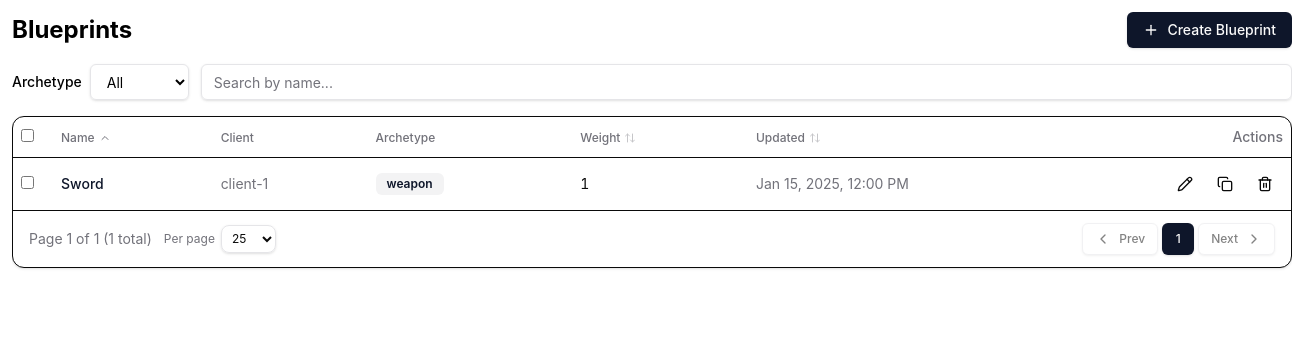
Test: Blueprints list page › clear button deselects all rows
This screenshot has width=1304, height=360.
Click the checkbox named "Select Sword" at (28, 182), box [21,176,34,188]
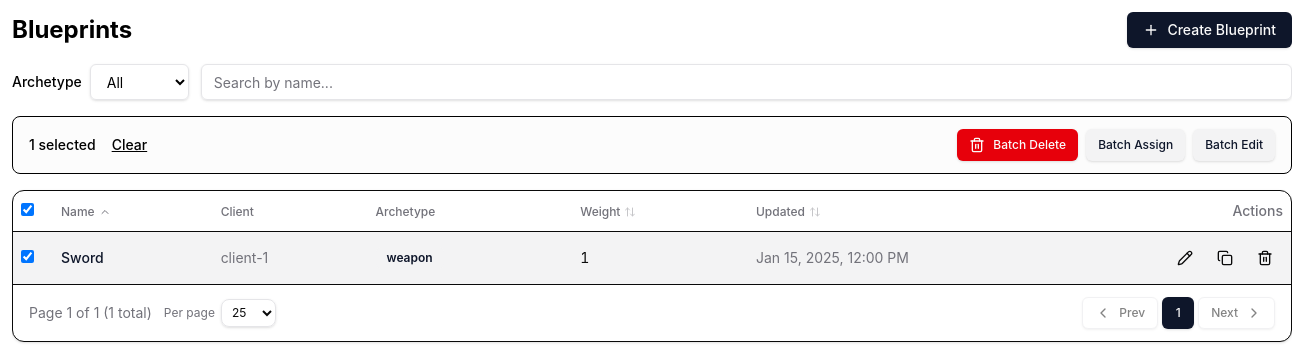
Result: the text "1 selected" is shown at [29,135,96,155]
Click the button "Clear" at (129, 145), box [112,135,147,155]
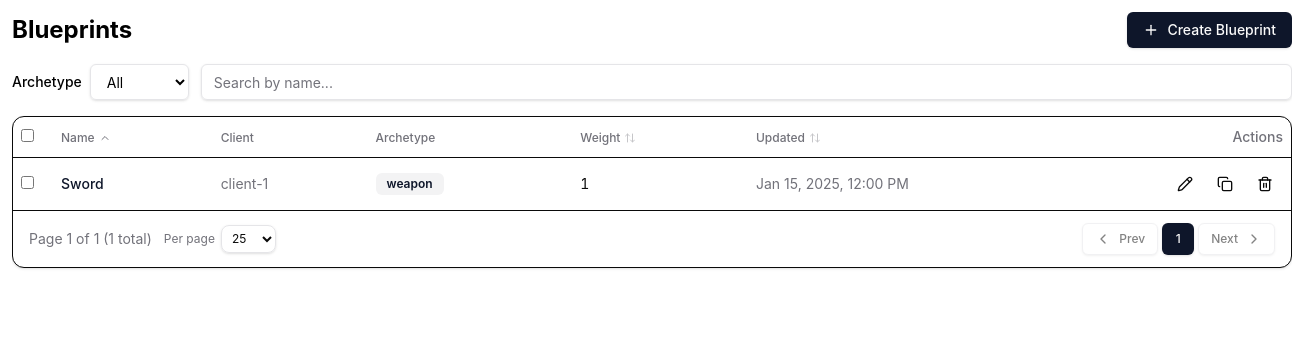
Result: the text "selected" is gone
